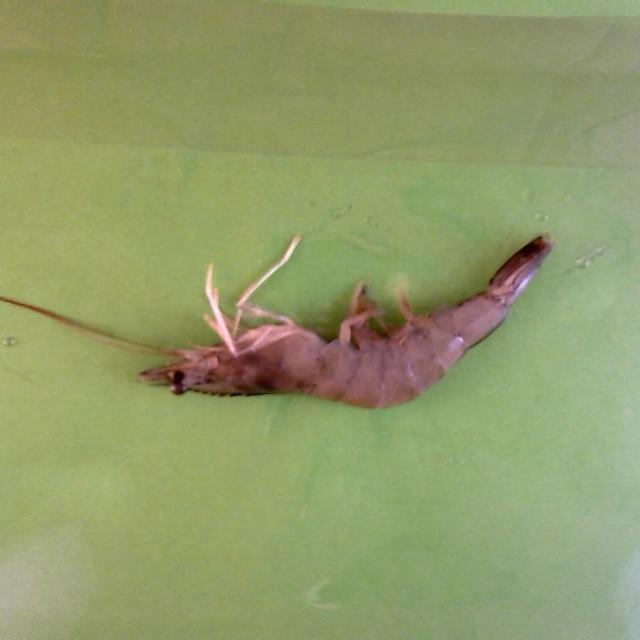shrimp: (140, 236, 553, 408)
